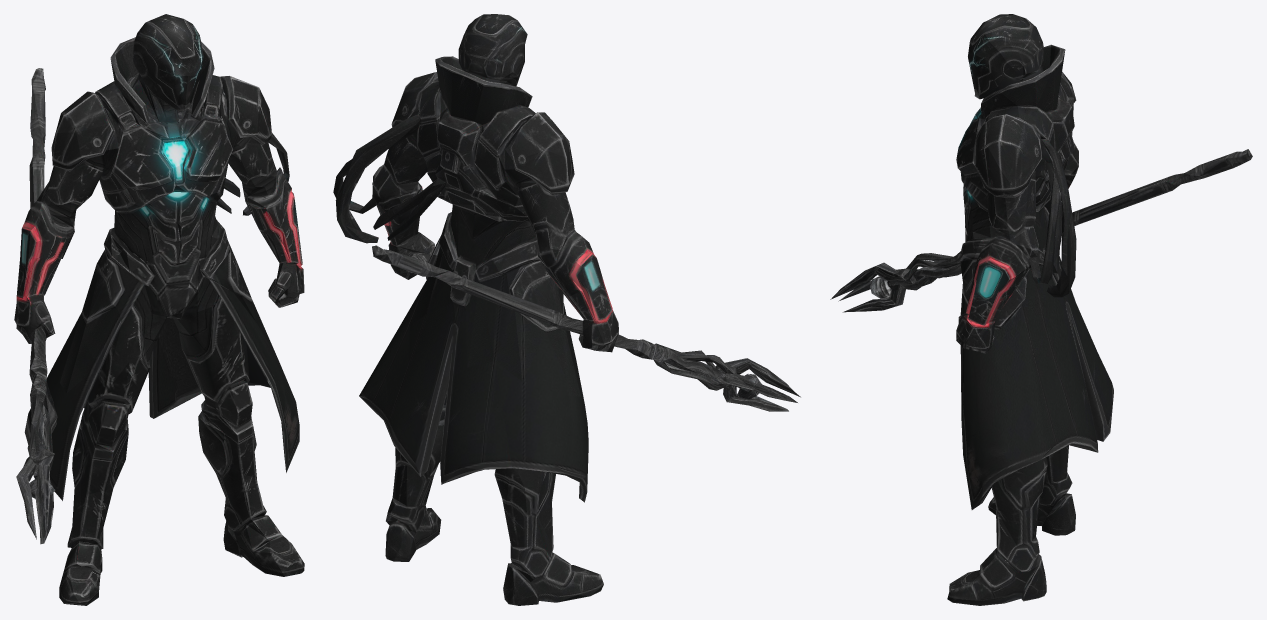
Rendered from dark-knight.glb.
3 views of the same model, side by side, from view 1: azimuth 30°, elevation 25°; view 2: azimuth 150°, elevation 25°; view 3: azimuth 270°, elevation 25° (orthographic). The views are drawn at different scales.
Visible parts, largest first — view 1: output_unwrapped; view 2: output_unwrapped; view 3: output_unwrapped.
Boxes of the visible parts, <box> form: output_unwrapped: <box>14,14,304,605</box>; output_unwrapped: <box>333,14,800,605</box>; output_unwrapped: <box>830,14,1252,605</box>.
Size of the model in its own units: 1.28 by 1.9 by 1.35.
Materials: 1 (1 with a texture image).
